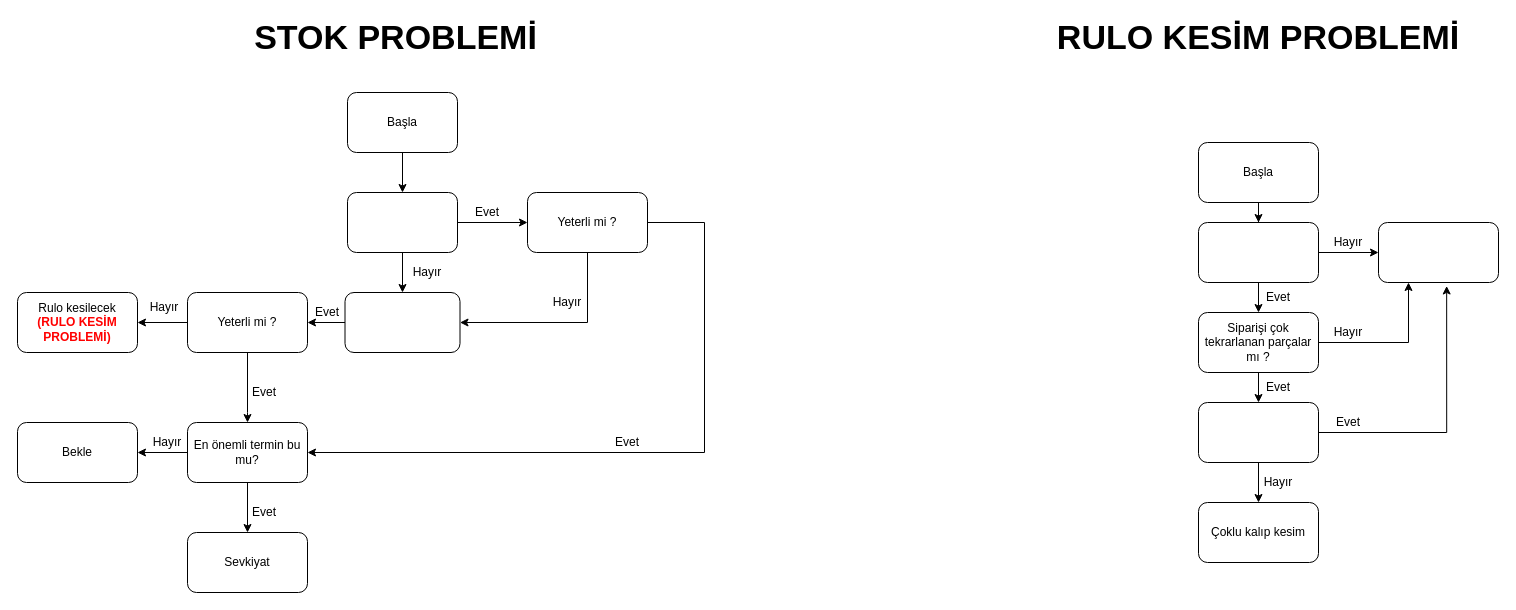
The diagram is 1516 pixels wide and 610 high, and some of its shapes have lost their labels. The centre of each missing label's shape, as x and y in pixels:
Daha büyük ebatlarda malzeme stoğu var mı ?: (x=402, y=322)
Hazır stok var mı ?: (x=402, y=222)
Kalan malzemelerin tamamı hurda olacak mı ?: (x=1258, y=432)
Siparişle birlikte tek seferde kesilebilecek parçalar var mı?: (x=1258, y=252)
Tekli kalıp kesim: (x=1438, y=252)
